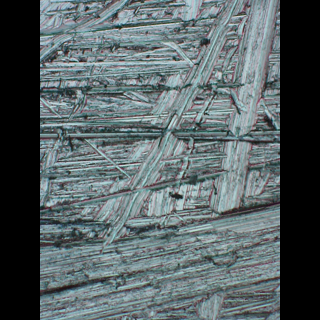d: (41, 190, 278, 319), (191, 0, 280, 318)
